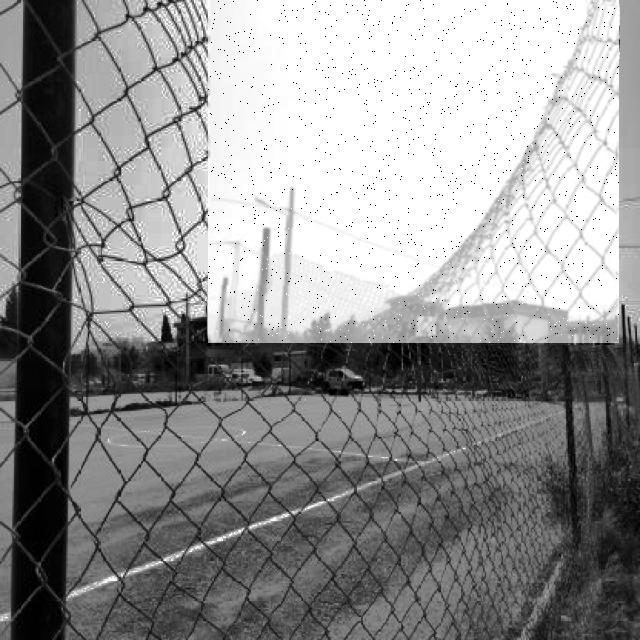anomaly-fence: (208, 0, 619, 343)
